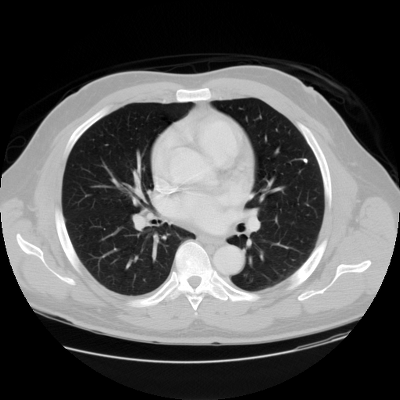nodule: (303, 158, 307, 162)
